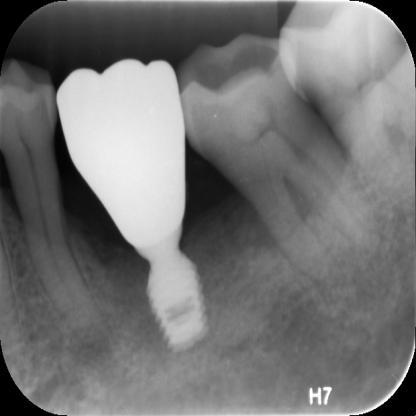Bicon: (137, 243, 214, 359)
